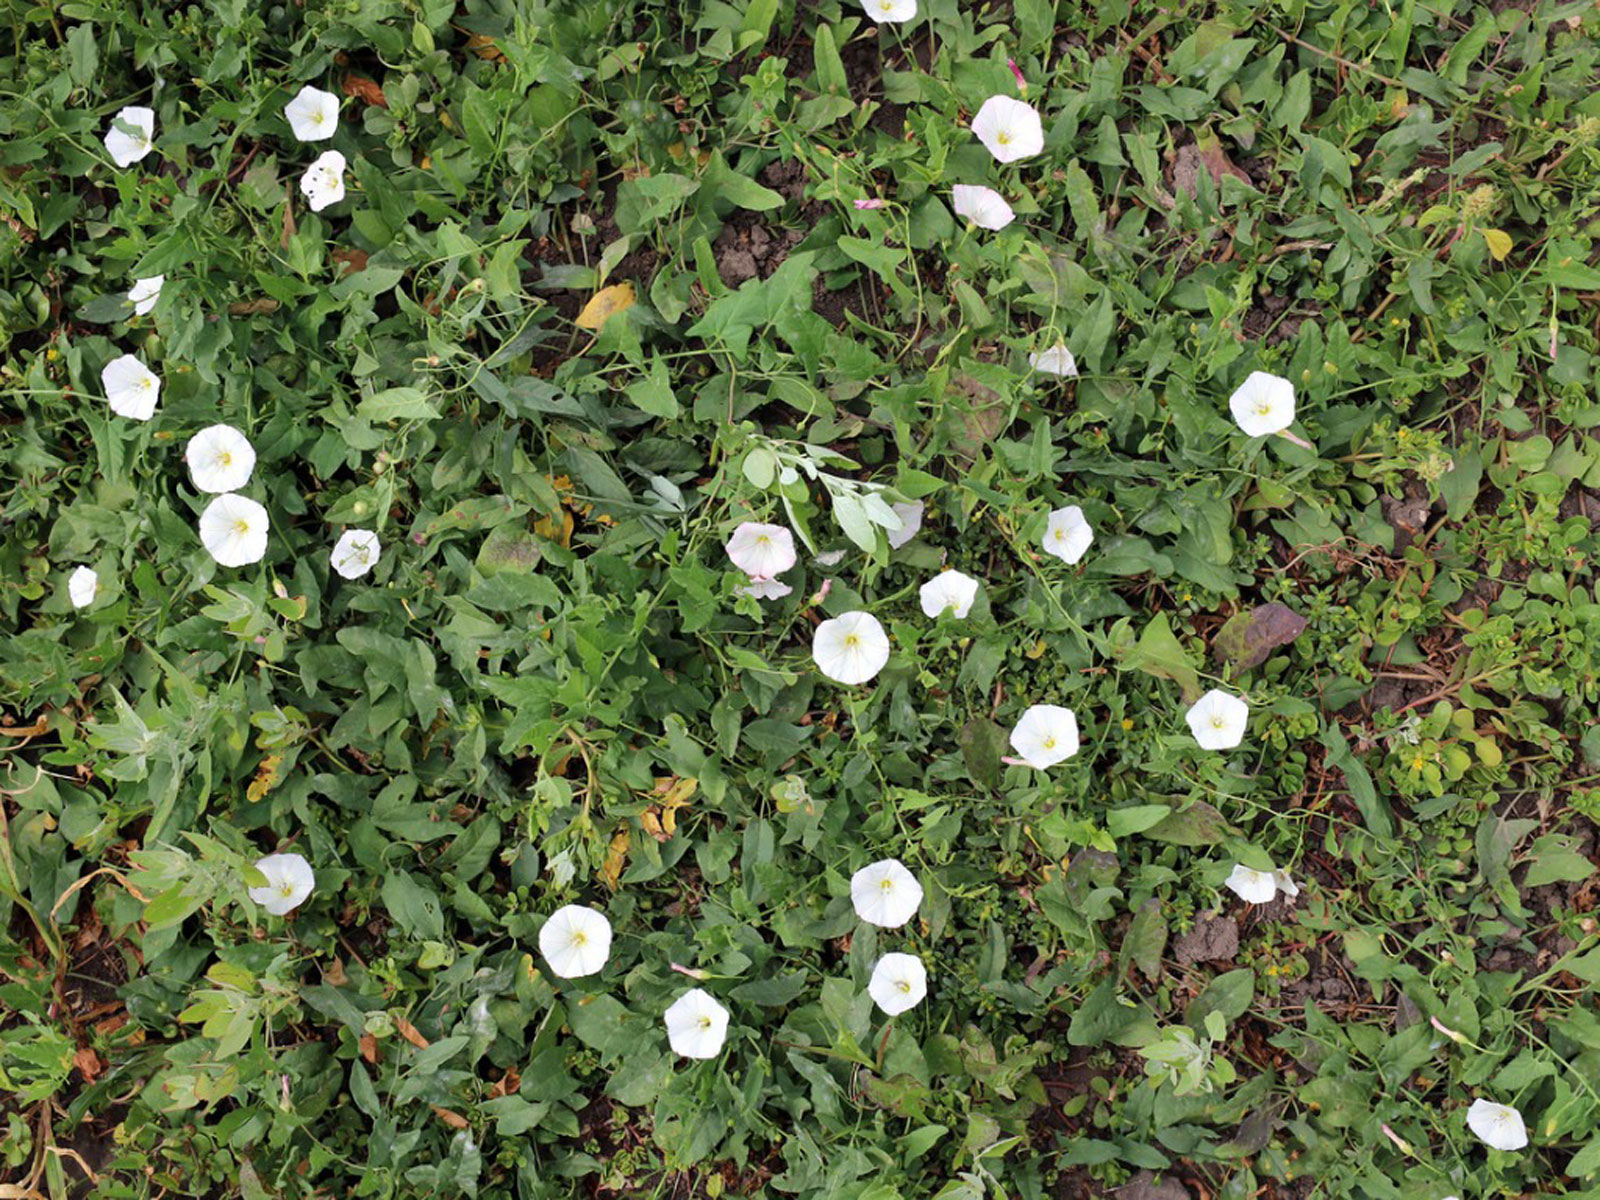bindweed: (809, 609, 889, 688), (183, 417, 260, 495), (537, 904, 614, 979), (661, 987, 734, 1066), (848, 856, 923, 932), (969, 92, 1046, 166), (1226, 368, 1300, 441), (1004, 705, 1083, 770), (243, 847, 317, 916), (718, 518, 797, 580), (94, 102, 164, 170), (866, 952, 931, 1022), (1183, 687, 1251, 754), (101, 353, 166, 421), (1225, 858, 1304, 906), (1466, 1094, 1529, 1153), (1038, 504, 1096, 568), (281, 84, 341, 142), (917, 566, 980, 620), (299, 147, 350, 213), (952, 182, 1017, 233), (329, 527, 386, 581), (881, 495, 929, 548), (1027, 340, 1078, 378), (66, 562, 103, 610), (127, 274, 169, 315), (855, 1, 922, 26)
